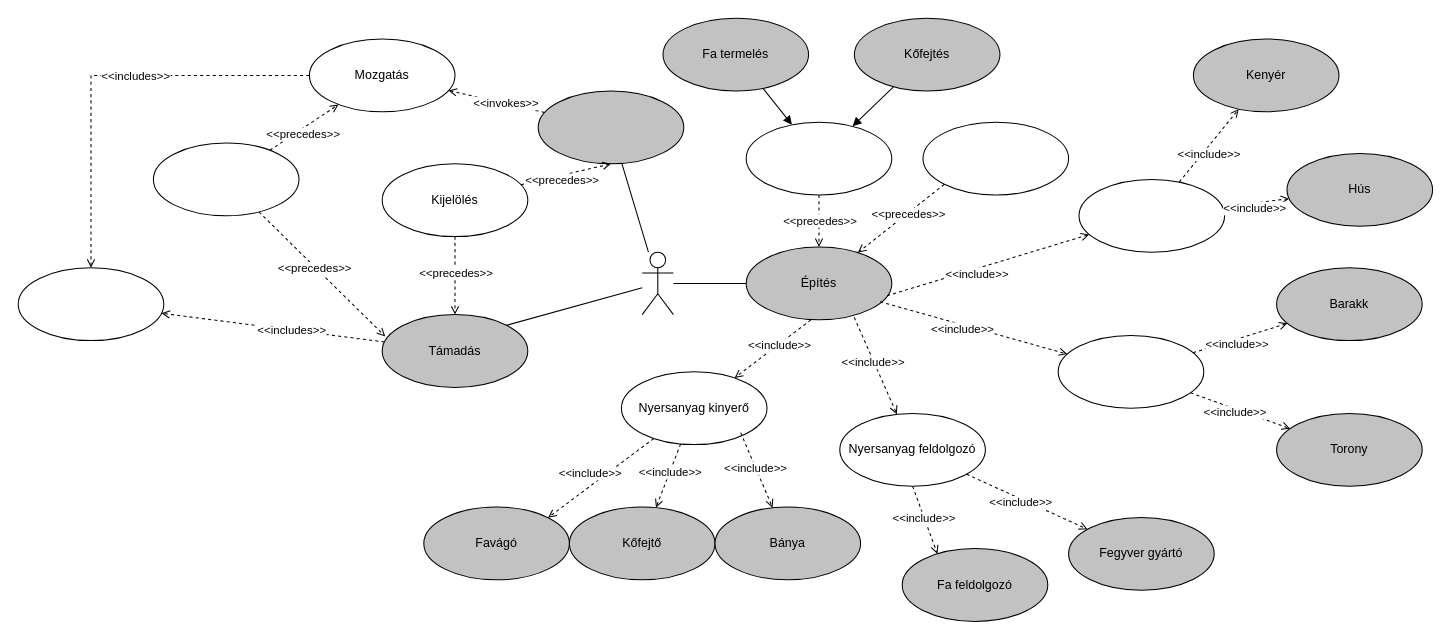
The diagram is 1451 pixels wide and 640 high, and some of its shapes have lost their labels. The shapes that lost their labels are listed below. From the top down, each one's box as (x1, y1, x2, y2) in pixels, then its label:
(537, 90, 684, 164): Haderő irányítása
(745, 121, 892, 195): Nyersanyag termelés
(922, 121, 1069, 195): Épület kiválasztása
(152, 142, 299, 216): Hely kiválasztás
(1078, 178, 1225, 252): Élelem termelő
(641, 251, 673, 315): Játékos
(17, 267, 164, 341): Kattintás
(1057, 334, 1204, 408): Terület növelő
